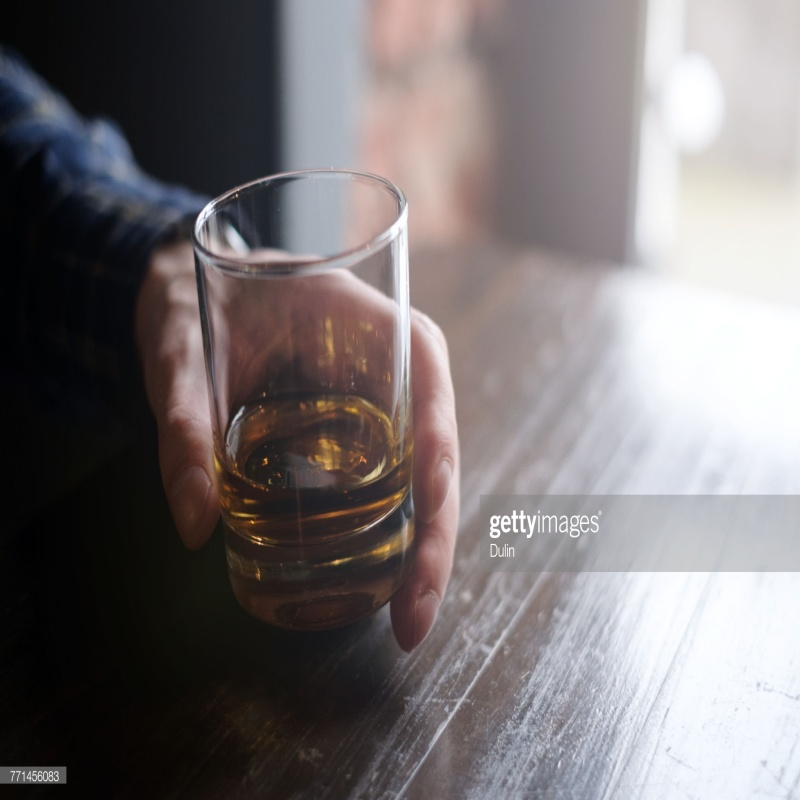whiskey: (211, 160, 420, 631)
